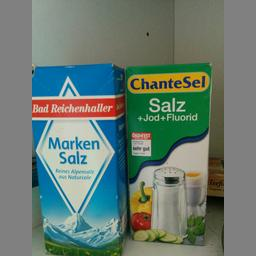spices: (30, 63, 124, 255), (124, 62, 212, 244)
